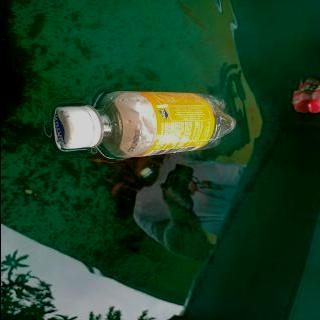bottle: (49, 88, 238, 162)
